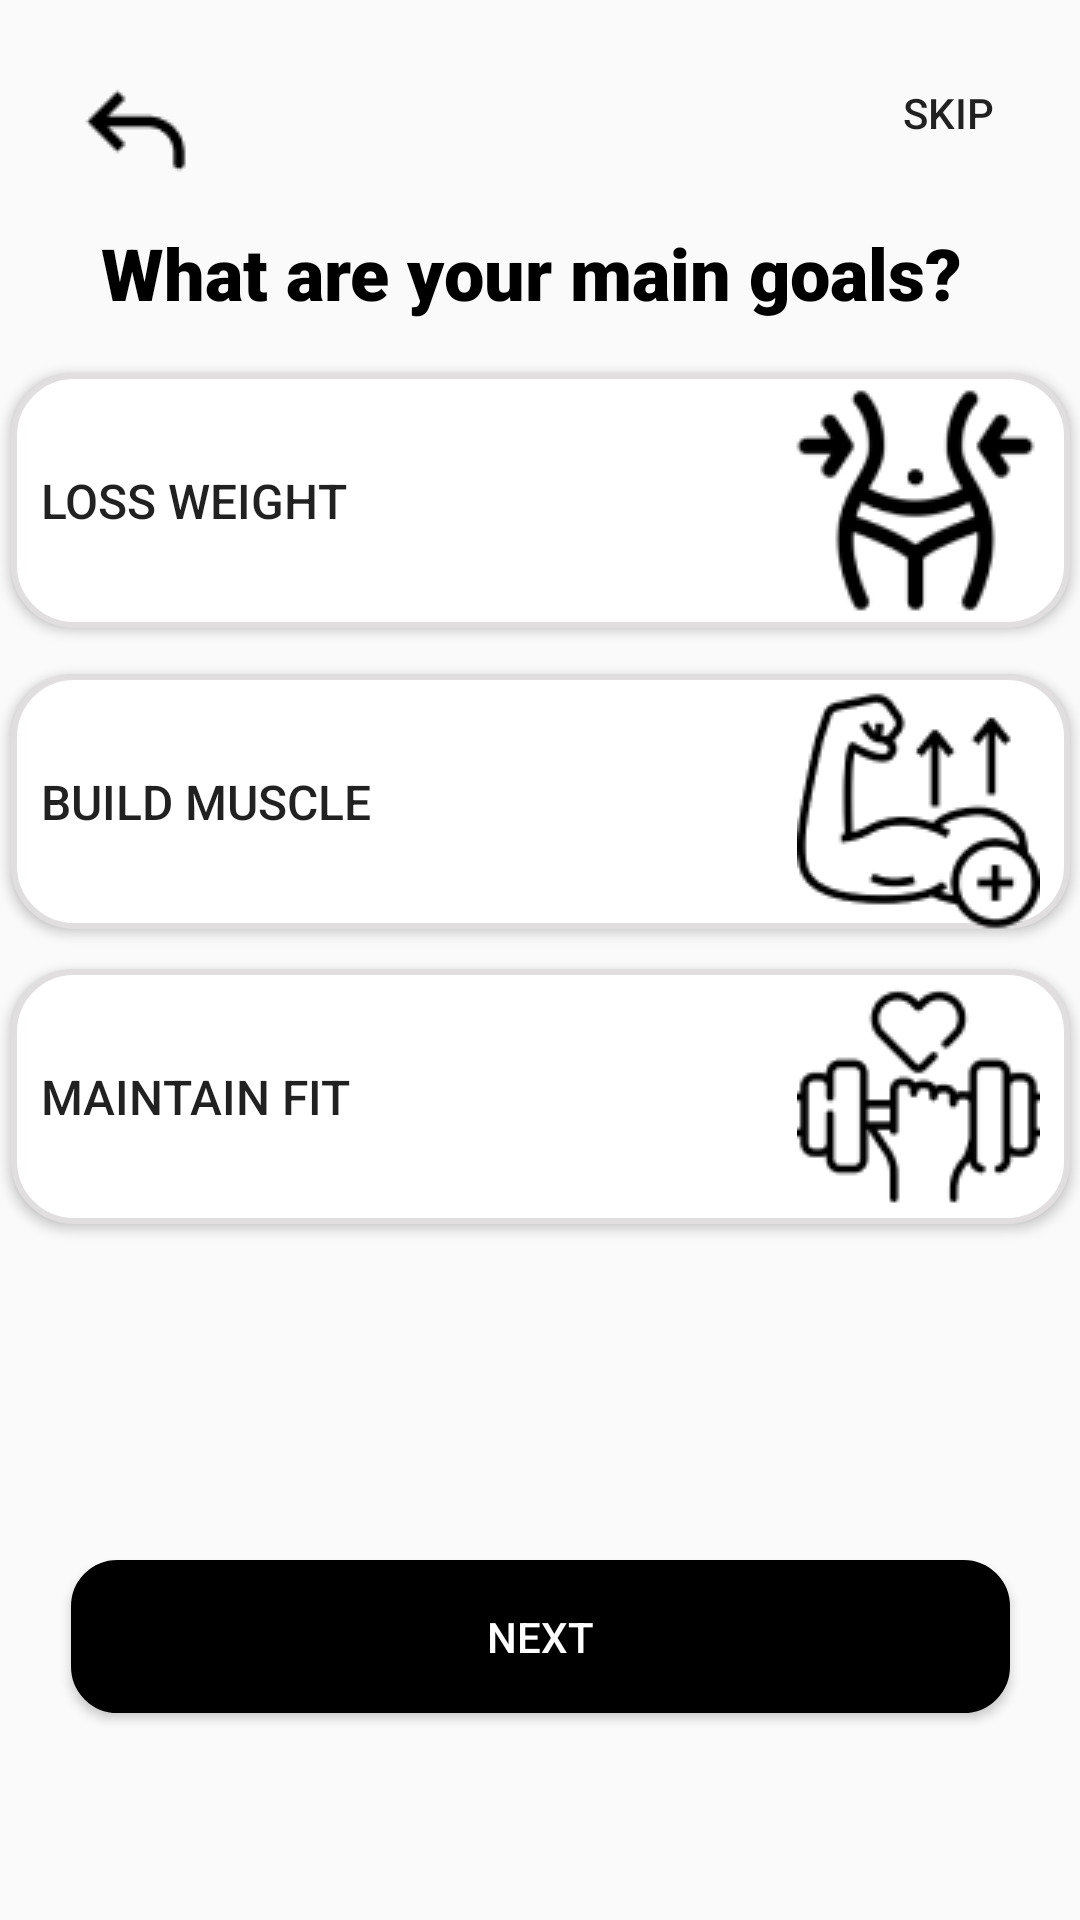

Named icons in this screenshot (1080w x 1920h) and their centers, point (x, y):
lets back: point (136, 130)
